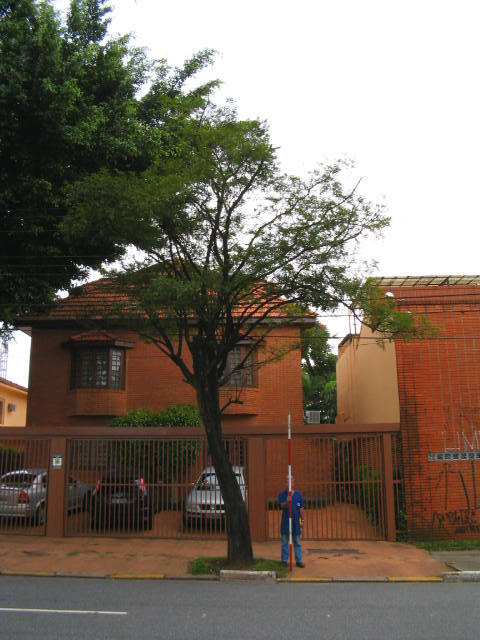crown: (61, 114, 445, 380)
stem: (187, 385, 268, 562)
stick: (279, 415, 296, 572)
tree: (59, 112, 449, 563)
